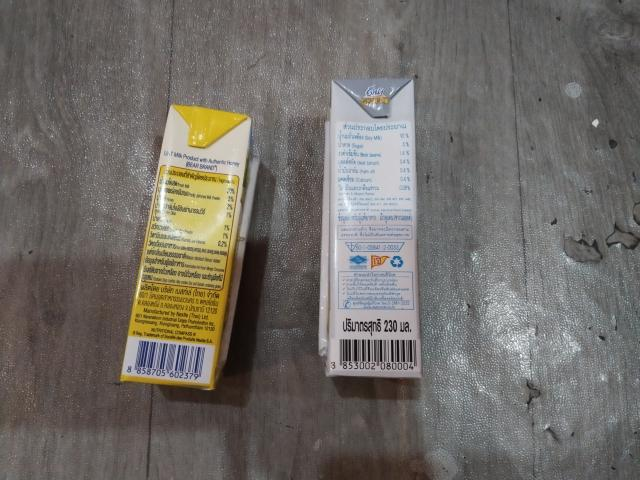drink_box: (109, 95, 274, 407), (318, 73, 440, 384)
